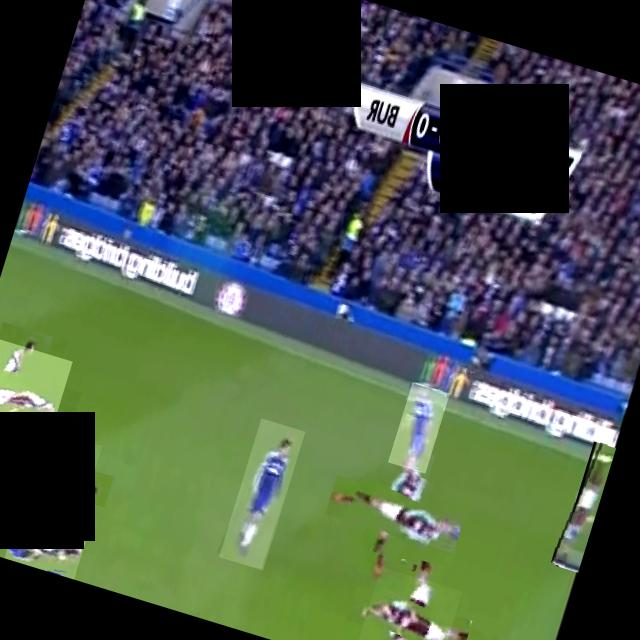soccer-player: (334, 453, 452, 571), (218, 416, 304, 568), (0, 420, 101, 525), (0, 332, 71, 458), (552, 438, 616, 572), (2, 489, 94, 579), (355, 565, 461, 640), (386, 380, 448, 472)
